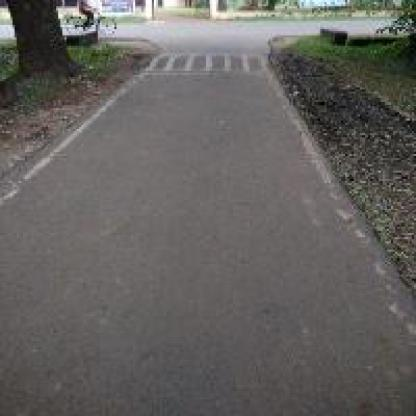Speed Bump: (144, 50, 264, 75)
